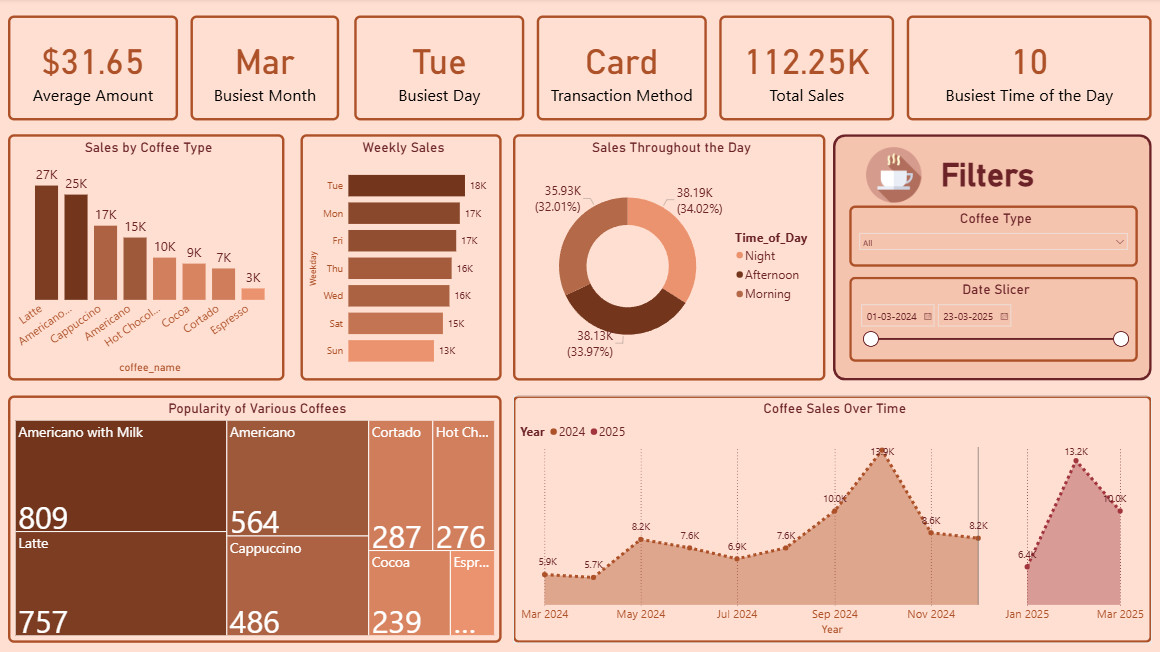

Layout of this report page (visuals, bound fields, positions):
{"tool":"powerbi","page":{"name":"Page 1","canvas":[1920,1080],"ordinal":0},"visuals":[{"type":"card","fields":{"Values":["Measures Table.Average Amount"]},"box":[16.5,28.8,279.9,172.9],"z":0},{"type":"card","fields":{"Values":["Min(Coffe_sales.Month_name)"]},"box":[317,28.8,244.9,172.9],"z":1000},{"type":"card","fields":{"Values":["Min(Coffe_sales.Weekday)"]},"box":[586.6,28.8,279.9,172.9],"z":2000},{"type":"card","fields":{"Values":["Min(Coffe_sales.cash_type)"]},"box":[887.1,28.8,279.9,172.9],"z":3000},{"type":"lineChart","title":"Coffee Sales Over Time","fields":{"Series":["Coffe_sales.Year"],"Category":["Coffe_sales.Date.Variation.Date Hierarchy.Year","Coffe_sales.Date.Variation.Date Hierarchy.Quarter","Coffe_sales.Date.Variation.Date Hierarchy.Month","Coffe_sales.Date.Variation.Date Hierarchy.Day"],"Y":["Sum(Coffe_sales.money)"]},"box":[848,654.5,1051.8,407.5],"z":4000},{"type":"card","fields":{"Values":["Measures Table.Total Sales"]},"box":[1187.7,28.8,288.2,172.9],"z":5000},{"type":"treemap","title":"Popularity of Various Coffees","fields":{"Group":["Coffe_sales.coffee_name"],"Values":["CountNonNull(Coffe_sales.Index)"]},"box":[16.5,654.5,813,407.5],"z":6000},{"type":"barChart","title":"Weekly Sales","fields":{"Category":["Coffe_sales.Weekday"],"Y":["Sum(Coffe_sales.money)"]},"box":[498.1,224.4,331.4,405.5],"z":7000},{"type":"donutChart","title":"Sales Throughout the Day","fields":{"Category":["Coffe_sales.Time_of_Day"],"Y":["Sum(Coffe_sales.money)"]},"box":[848,224.4,514.6,405.5],"z":8000},{"type":"card","fields":{"Values":["Max(Coffe_sales.hour_of_day)"]},"box":[1496.4,28.8,403.4,172.9],"z":9000},{"type":"columnChart","title":"Sales by Coffee Type","fields":{"Category":["Coffe_sales.coffee_name"],"Y":["Sum(Coffe_sales.money)"]},"box":[16.5,224.4,454.9,405.5],"z":10000},{"type":"shape","box":[1375,224.4,524.9,405.5],"z":11000},{"type":"image","box":[1403.8,240.8,142,100.9],"z":12000},{"type":"textbox","box":[1547.9,255.2,298.5,86.4],"z":13000},{"type":"slicer","title":"Coffee Type","fields":{"Values":["Coffe_sales.coffee_name"]},"box":[1401.7,341.7,475.5,100.9],"z":13001},{"type":"slicer","title":"Date Slicer","fields":{"Values":["Coffe_sales.Date"]},"box":[1401.7,459,475.5,140],"z":13002}]}

Visuals, with their boxes in screenshot pixels (x1, y1, x2, y2), scaled from the page's 1920x1080 canvas onto the 1160x652 screenshot:
card - Measures Table.Average Amount: (left=10, top=17, right=179, bottom=122)
card - Min(Coffe_sales.Month_name): (left=192, top=17, right=339, bottom=122)
card - Min(Coffe_sales.Weekday): (left=354, top=17, right=524, bottom=122)
card - Min(Coffe_sales.cash_type): (left=536, top=17, right=705, bottom=122)
"Coffee Sales Over Time" lineChart: (left=512, top=395, right=1148, bottom=641)
card - Measures Table.Total Sales: (left=718, top=17, right=892, bottom=122)
"Popularity of Various Coffees" treemap: (left=10, top=395, right=501, bottom=641)
"Weekly Sales" barChart: (left=301, top=135, right=501, bottom=380)
"Sales Throughout the Day" donutChart: (left=512, top=135, right=823, bottom=380)
card - Max(Coffe_sales.hour_of_day): (left=904, top=17, right=1148, bottom=122)
"Sales by Coffee Type" columnChart: (left=10, top=135, right=285, bottom=380)
shape: (left=831, top=135, right=1148, bottom=380)
image: (left=848, top=145, right=934, bottom=206)
textbox: (left=935, top=154, right=1116, bottom=206)
"Coffee Type" slicer: (left=847, top=206, right=1134, bottom=267)
"Date Slicer" slicer: (left=847, top=277, right=1134, bottom=362)
